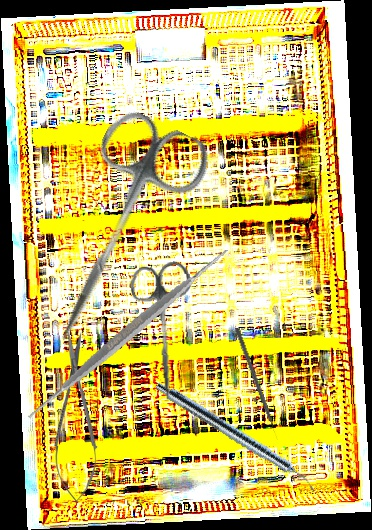Handpiece: (151, 379, 322, 494)
Iris Scissors: (18, 103, 218, 365), (128, 260, 201, 404)
Micro Scissor: (51, 331, 100, 504)
Pusher: (233, 327, 280, 441)
Spatula Surgical: (13, 218, 244, 450)
